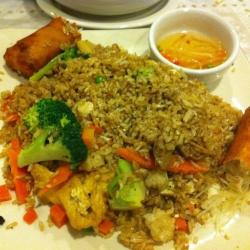rice: (14, 64, 238, 227)
